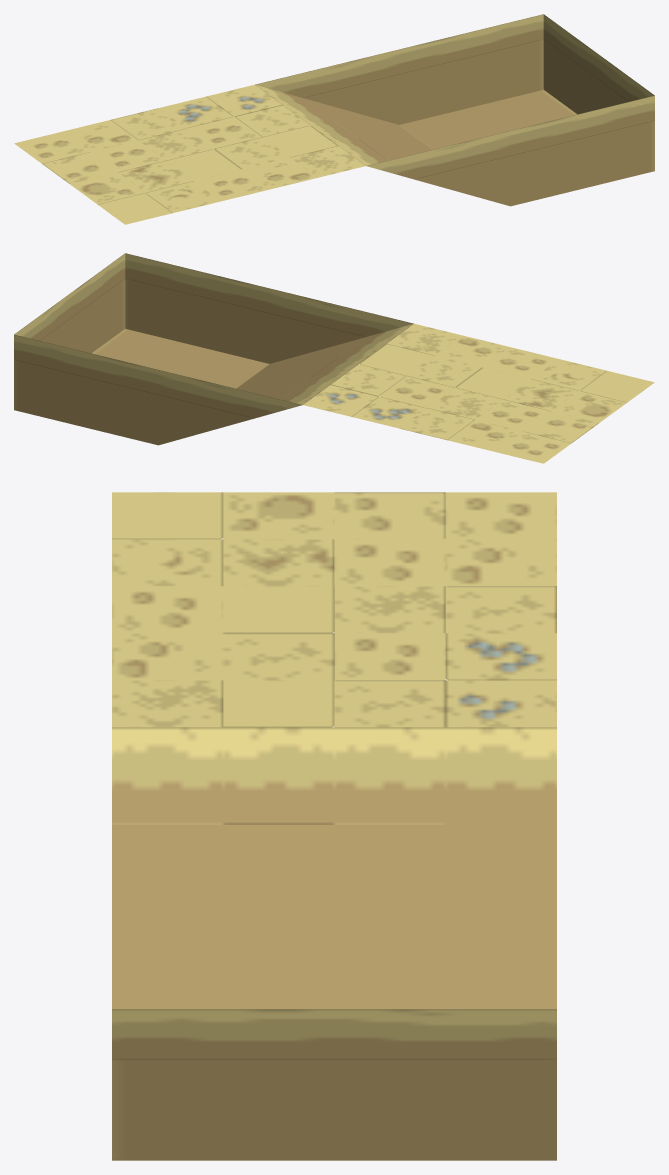
File: Beach 1.obj
3 renders of one model, top to bottom at view 1: azimuth 30°, elevation 25°; view 2: azimuth 150°, elevation 25°; view 3: azimuth 270°, elevation 25°, orthographic. The views are drawn at different scales.
Visible parts, largest first — view 1: Default; view 2: Default; view 3: Default.
Boxes of the visible parts, x1,y1,x2,y2 form: Default: (14,14,654,224); Default: (14,253,654,463); Default: (112,492,556,1160).
Bounding box in the file's own units: 11 × 1.5 × 4.
1 material, 1 textured.
